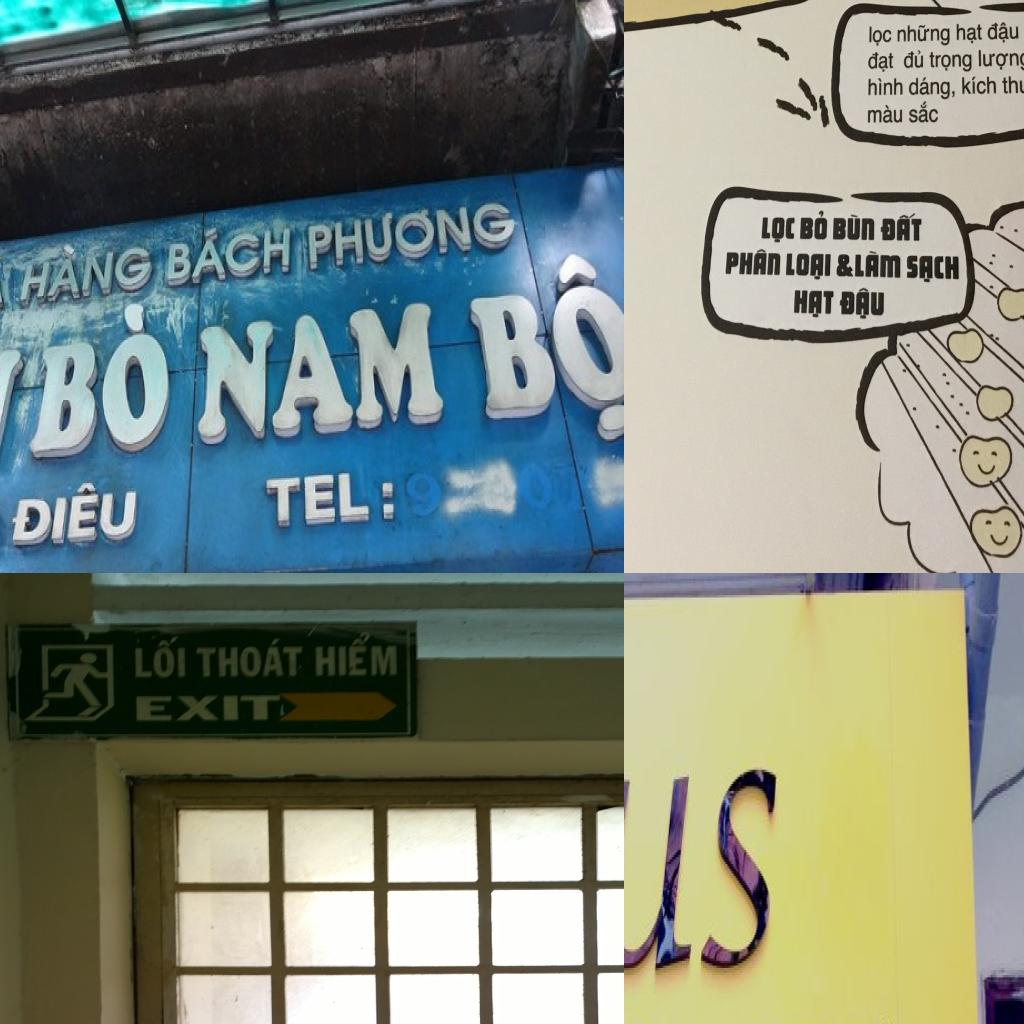text: (624, 746, 786, 1024), (191, 291, 454, 449), (459, 239, 624, 445), (18, 298, 176, 465), (302, 186, 525, 276), (0, 476, 140, 558), (18, 231, 155, 304), (160, 218, 296, 291), (195, 634, 307, 680), (309, 629, 401, 680), (127, 634, 193, 681), (722, 244, 782, 279), (905, 252, 961, 287), (854, 250, 904, 282), (784, 251, 832, 283), (878, 211, 924, 244), (790, 286, 834, 320), (896, 21, 952, 47), (830, 213, 876, 241), (974, 46, 1024, 71), (928, 48, 972, 74), (906, 75, 951, 99), (759, 216, 797, 244), (799, 210, 830, 242), (985, 18, 1021, 45), (957, 75, 998, 97), (866, 76, 904, 98), (868, 102, 902, 125), (906, 102, 938, 126), (865, 23, 894, 49), (953, 22, 984, 45), (866, 51, 894, 75), (999, 71, 1024, 94), (901, 48, 926, 70), (835, 253, 853, 279)
